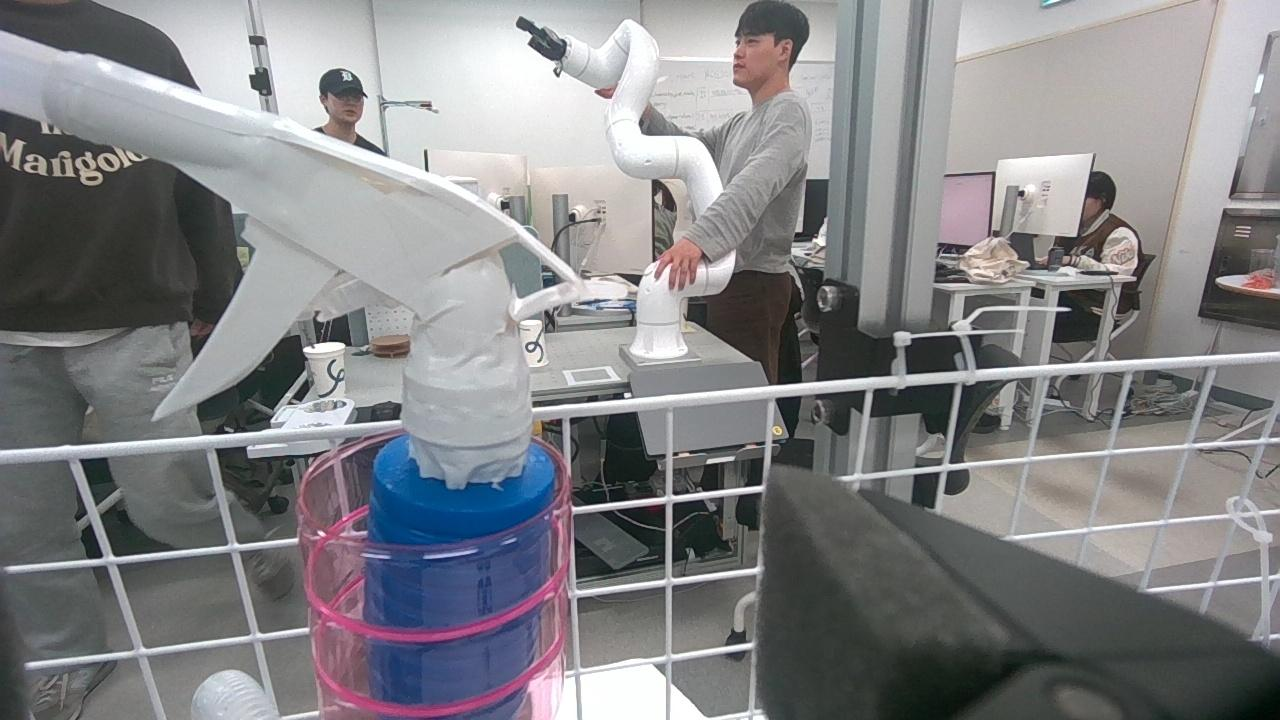Nozzle: (35, 34, 620, 720)
